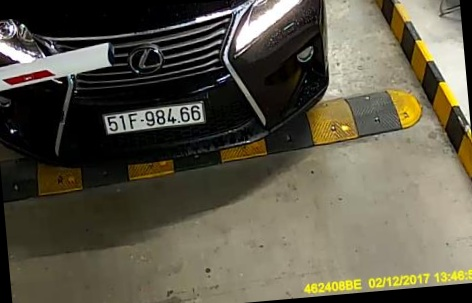plate: (93, 92, 210, 145)
